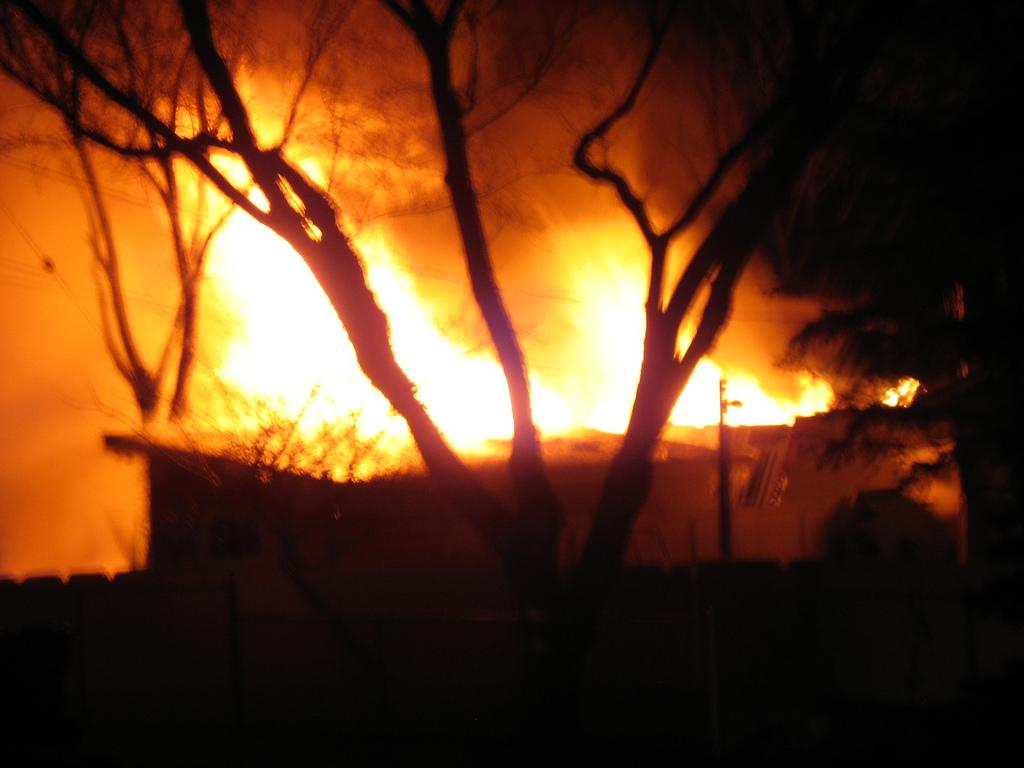fire: (224, 220, 382, 454), (412, 314, 514, 444), (570, 264, 642, 434), (690, 368, 802, 432)
